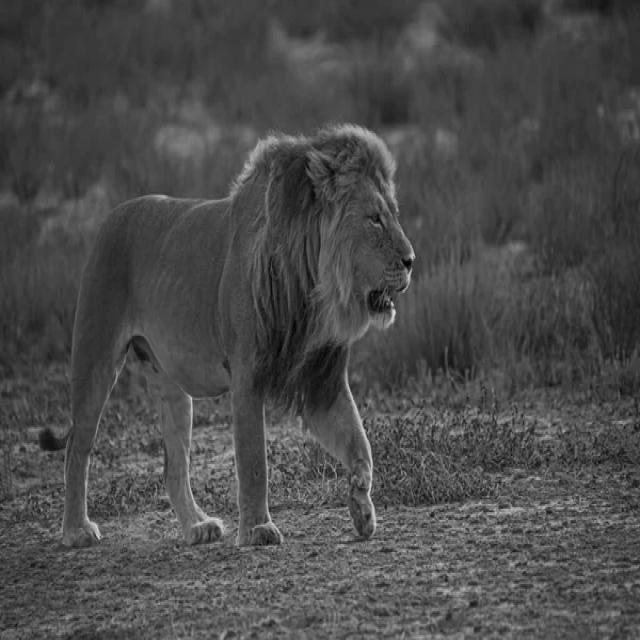Animal: (62, 125, 416, 548)
